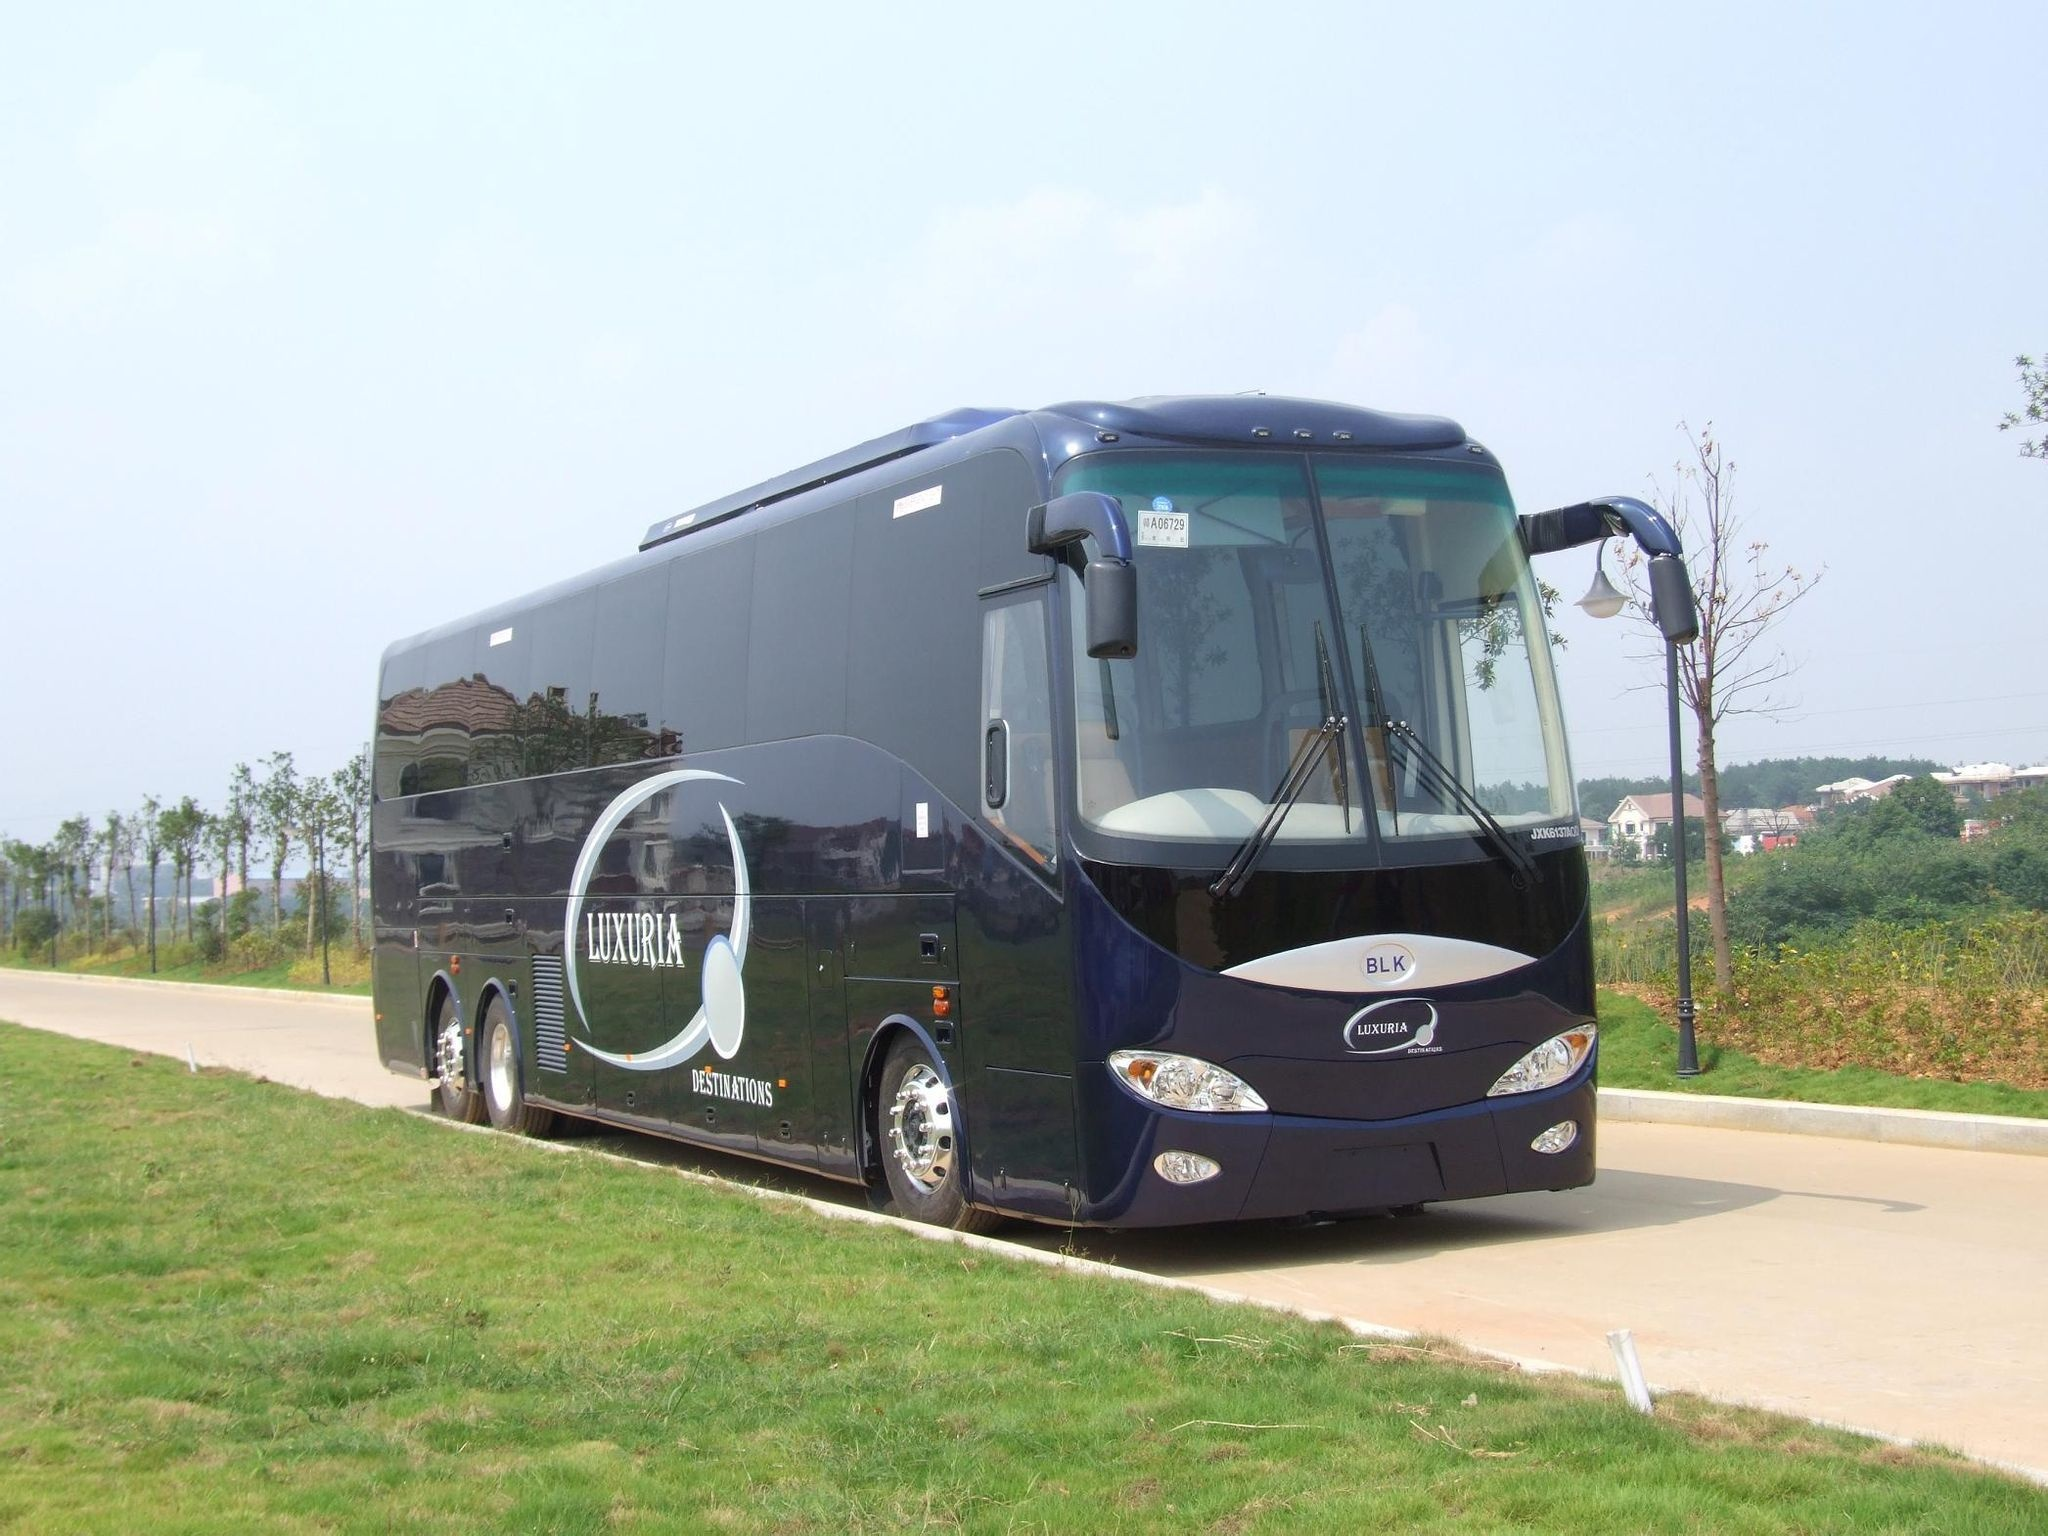bus: (374, 394, 1692, 1279)
